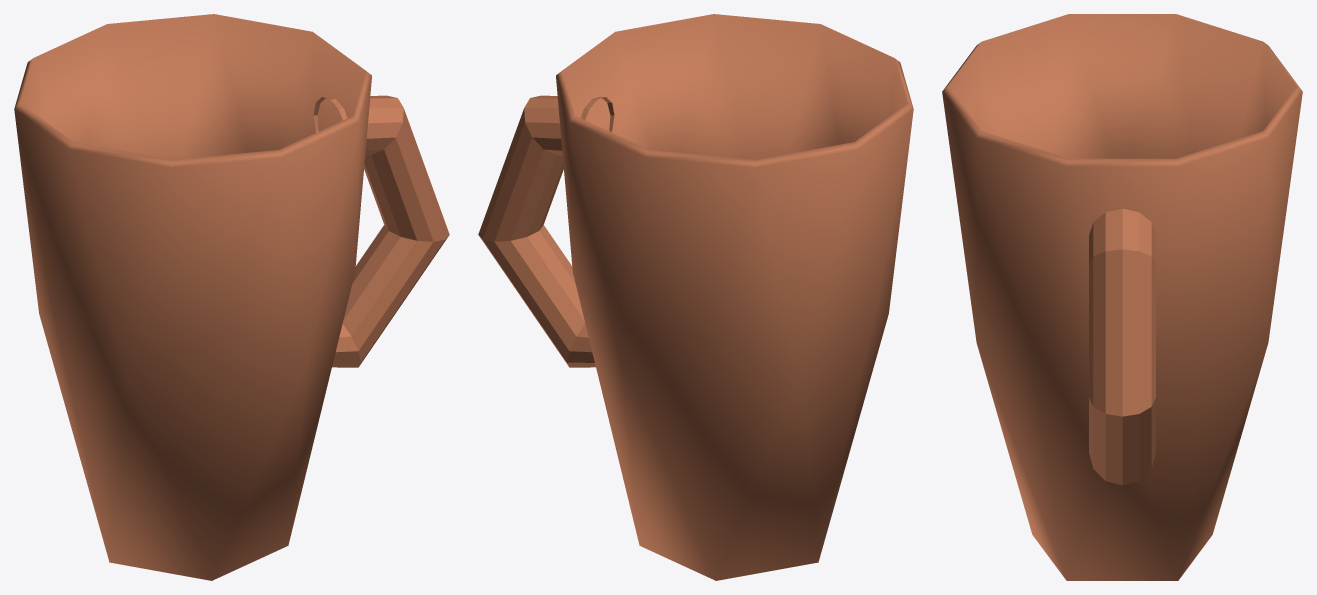
Rendered from glass-type-03.obj.
The picture shows the model from 3 angles, left to right: view 1: azimuth 30°, elevation 25°; view 2: azimuth 150°, elevation 25°; view 3: azimuth 270°, elevation 25°; orthographic projection.
Visible parts, largest first — view 1: glass-type-03; view 2: glass-type-03; view 3: glass-type-03.
Boxes of the visible parts, x1,y1,x2,y2 form: glass-type-03: [14, 14, 449, 580]; glass-type-03: [478, 14, 913, 580]; glass-type-03: [942, 14, 1302, 580].
Bounding box in the file's own units: 0.068 × 0.0754 × 0.0519.
